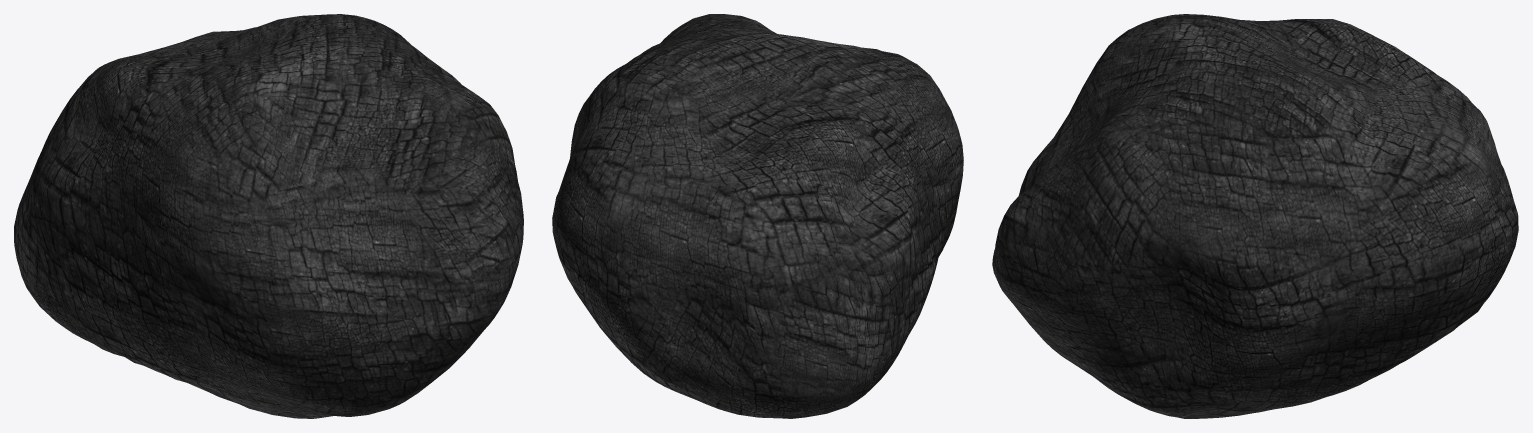
File: carbon.glb
3 renders of one model, left to right at view 1: azimuth 30°, elevation 25°; view 2: azimuth 150°, elevation 25°; view 3: azimuth 270°, elevation 25°, orthographic. The views are drawn at different scales.
Visible parts, largest first — view 1: charbon; view 2: charbon; view 3: charbon.
Boxes of the visible parts, <box> form: charbon: <box>14,14,523,418</box>; charbon: <box>552,14,963,418</box>; charbon: <box>992,14,1518,418</box>.
Bounding box in the file's own units: 1.84 × 1.54 × 2.16.
1 material, 1 textured.
